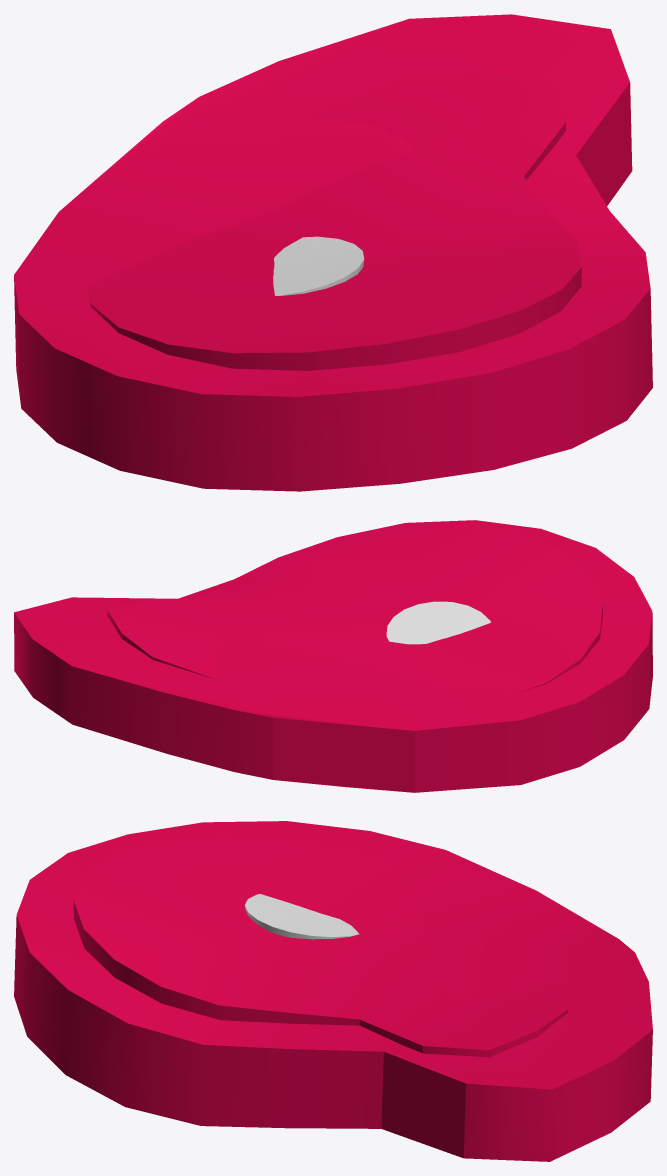
Rendered from Meat.fbx.
3 renders of one model, top to bottom at view 1: azimuth 30°, elevation 25°; view 2: azimuth 150°, elevation 25°; view 3: azimuth 270°, elevation 25°, orthographic. The views are drawn at different scales.
Parts seen in each view (by area): view 1: Meat; view 2: Meat; view 3: Meat.
Boxes of the visible parts, bbox=[...] form: Meat: bbox=[14, 14, 652, 491]; Meat: bbox=[14, 520, 652, 792]; Meat: bbox=[14, 821, 652, 1161].
Bounding box in the file's own units: 25.84 × 6.13 × 23.66.
